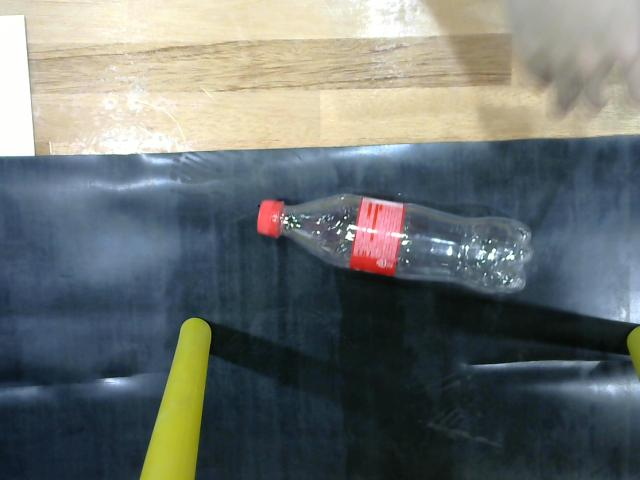bottle: (257, 190, 538, 300)
